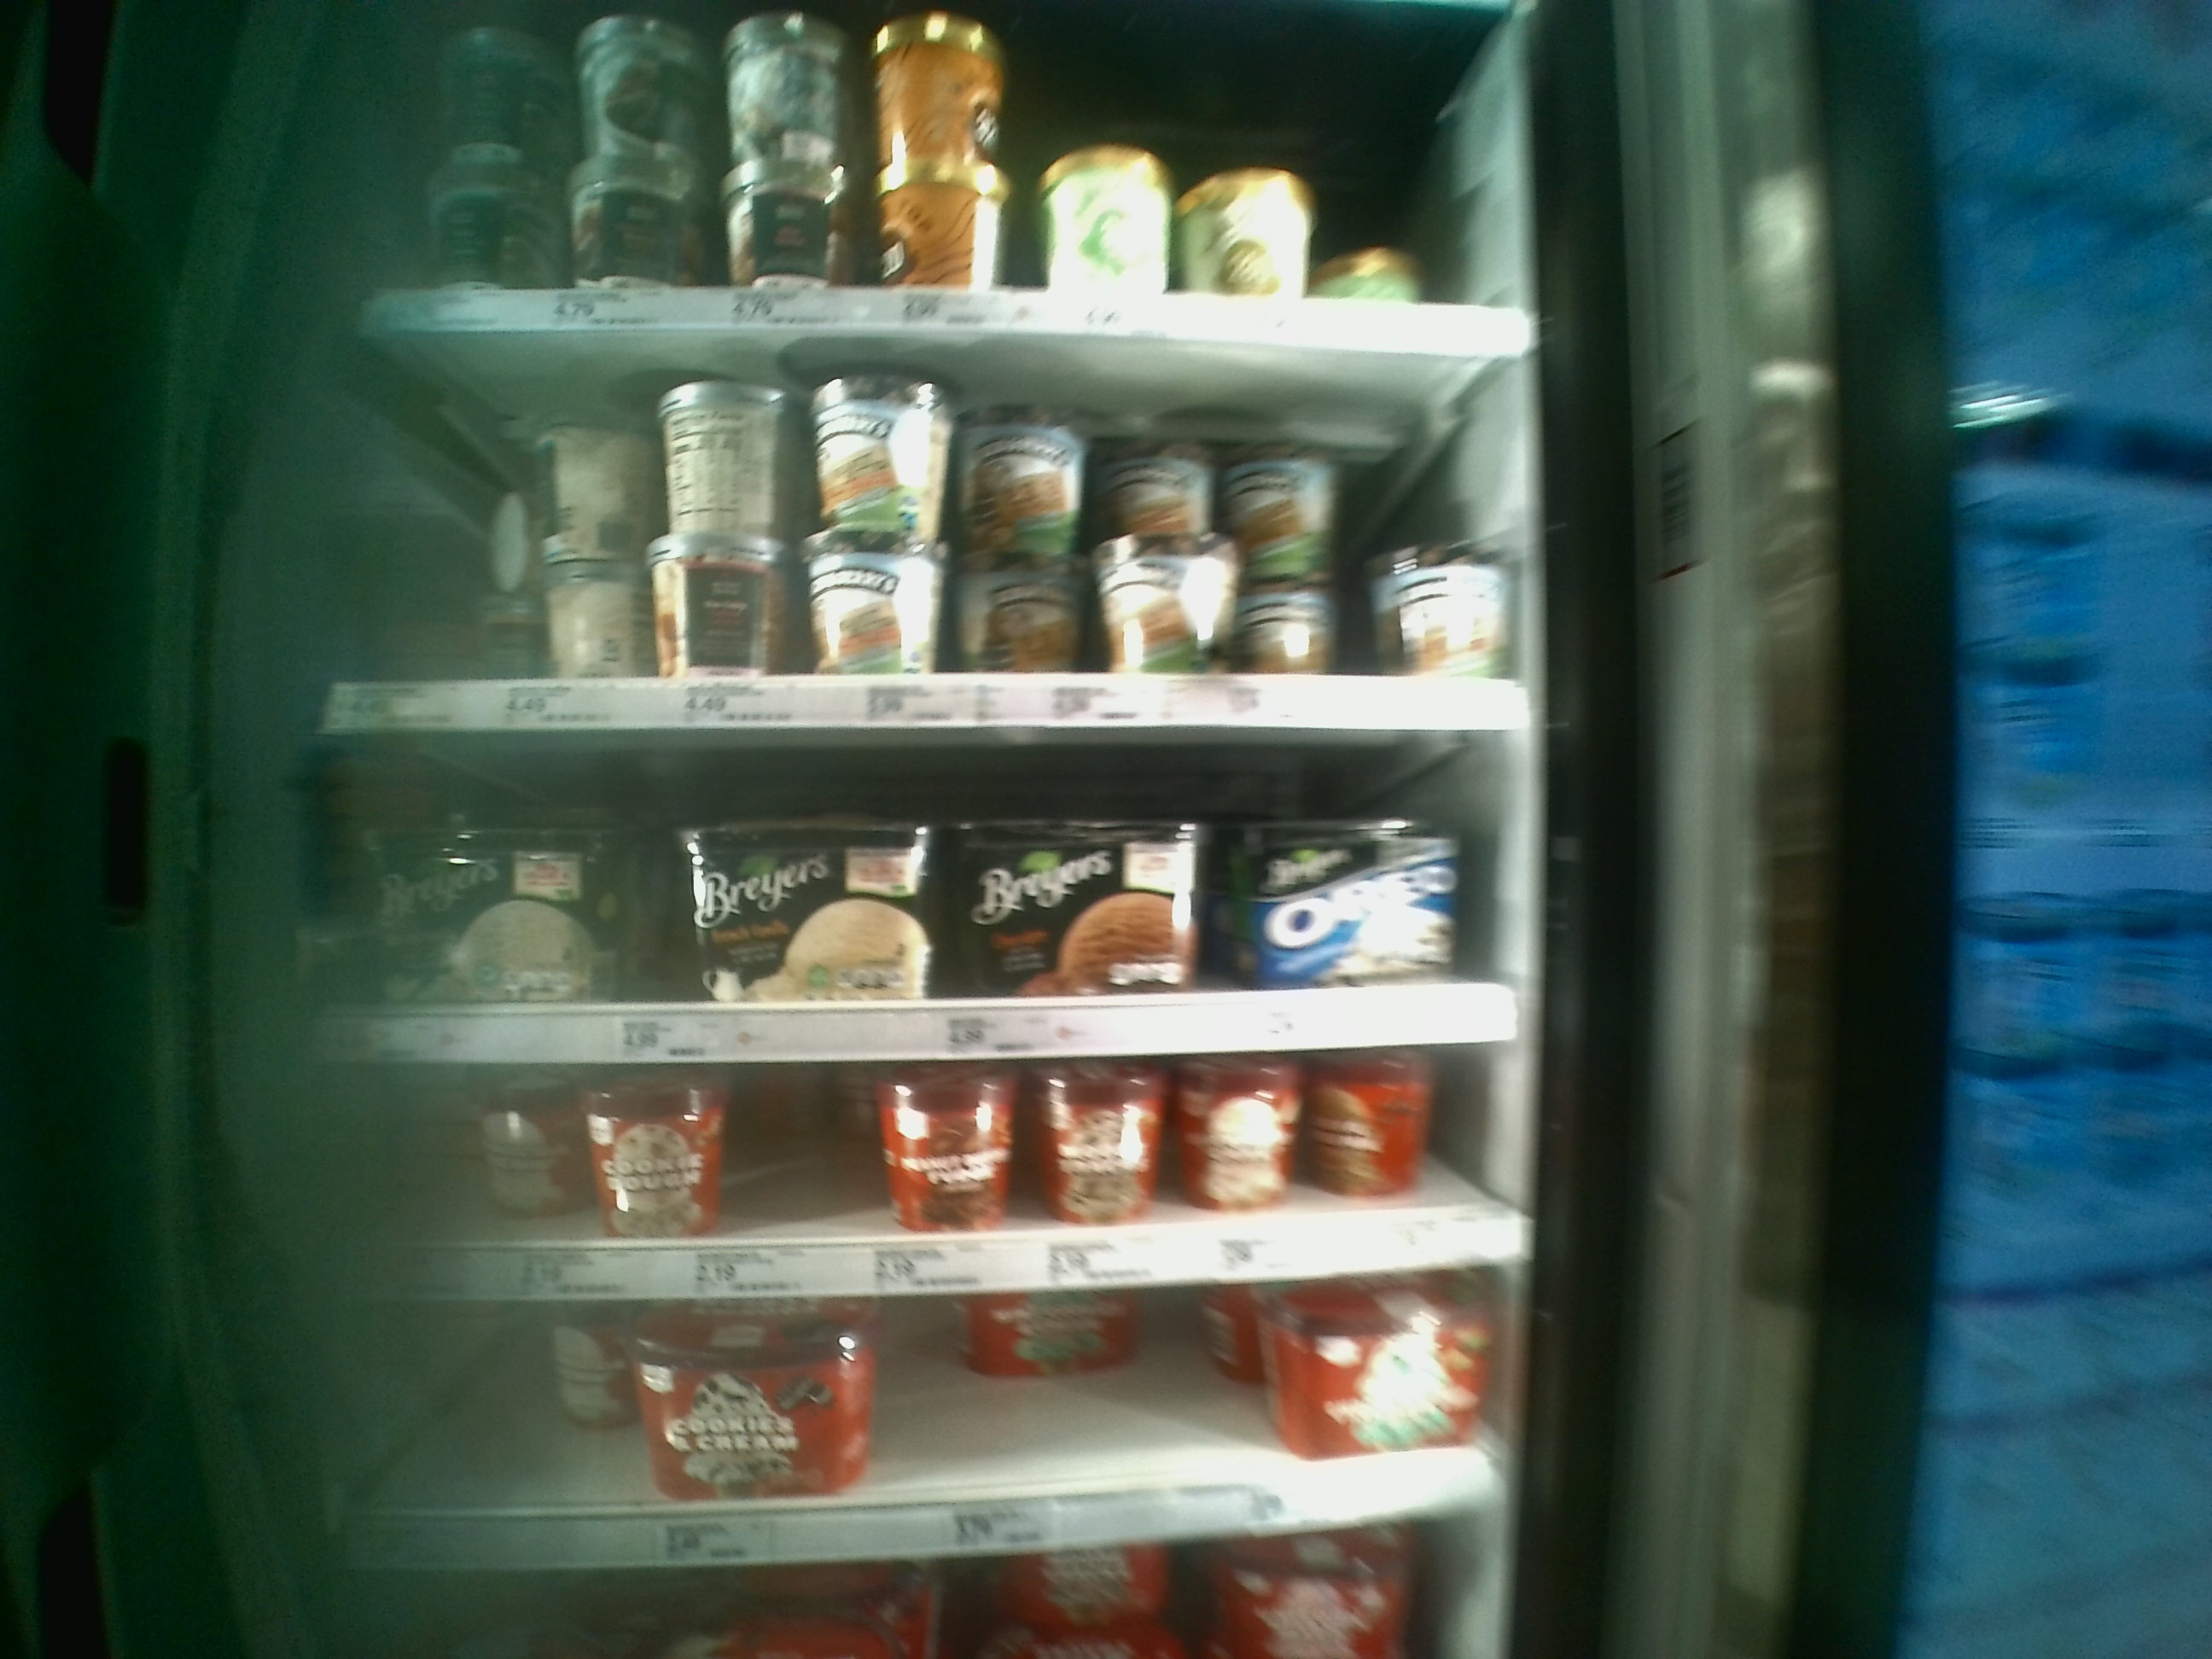ice-cream-shelf: (324, 322, 1548, 737), (319, 734, 1524, 1065), (315, 1065, 1541, 1297)
